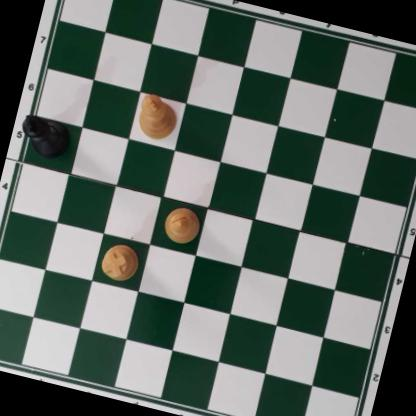black-king: (15, 111, 76, 165)
white-bishop: (160, 202, 205, 248)
white-king: (135, 89, 181, 142)
white-rook: (98, 240, 143, 284)
